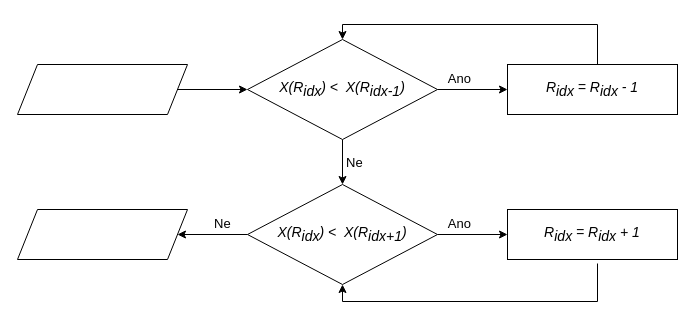
Some shapes in this 695 by 327 pixel diagram are drawn without their labels. Each missing label, with the centre of its shape:
index R vlny R idx: point (102, 89)
nový index R vlny: point (102, 234)
